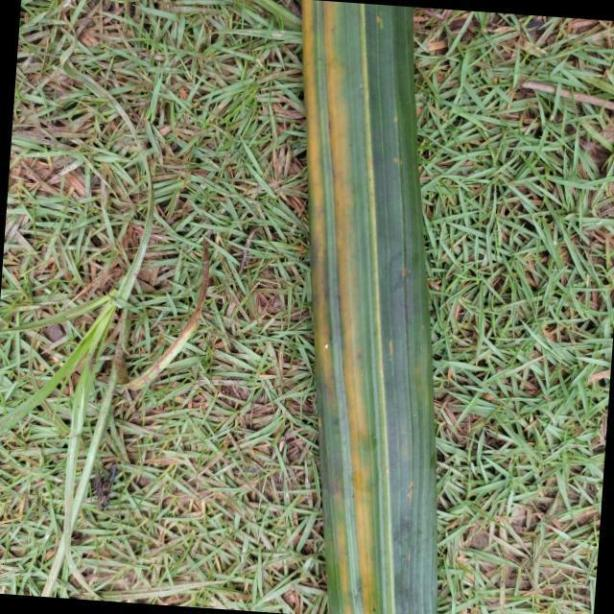Megnesium: (304, 0, 441, 614)
